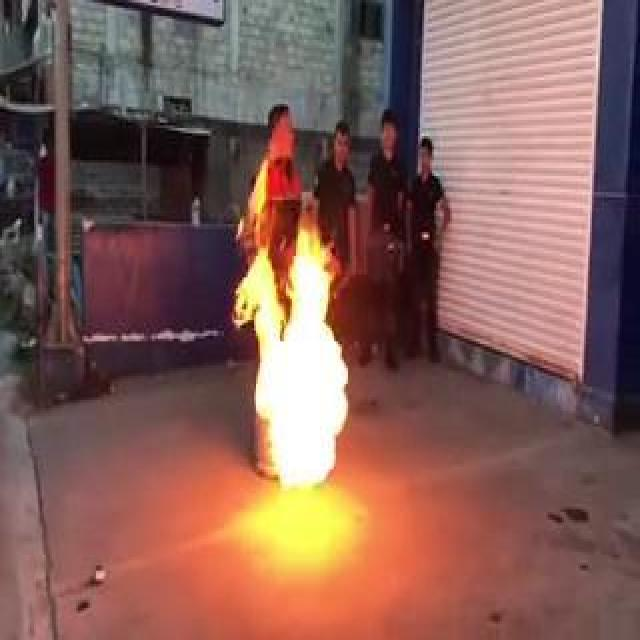Fire: (234, 233, 348, 484)
